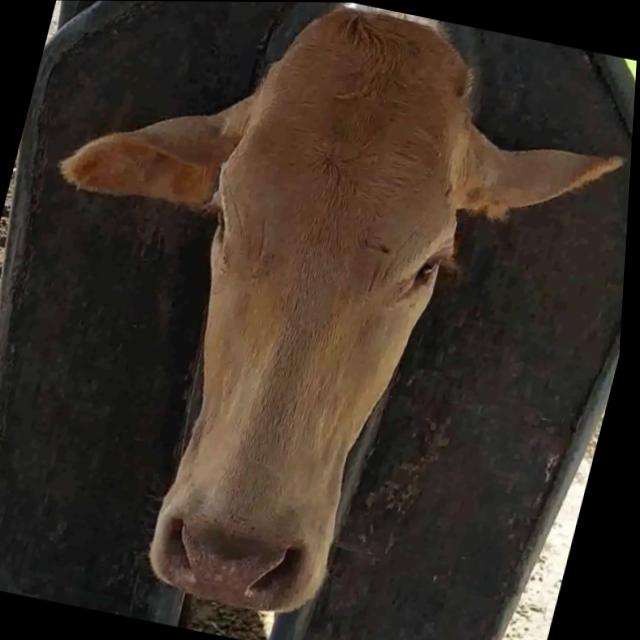cowFace: (117, 1, 509, 632)
